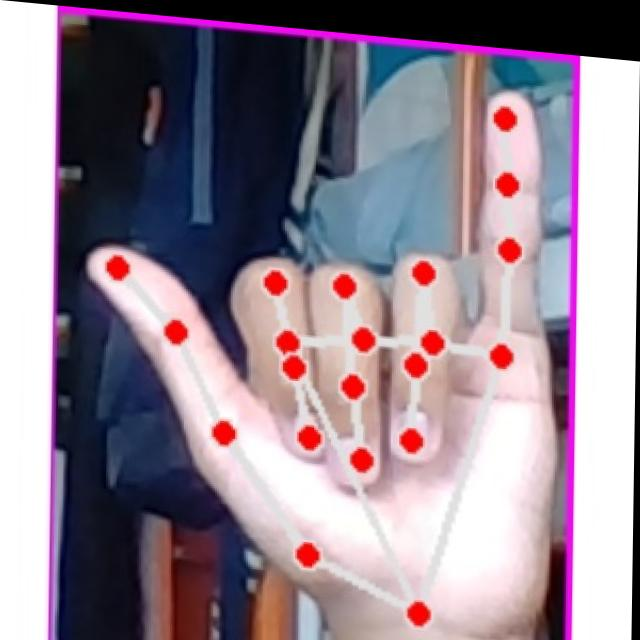Y: (76, 42, 566, 638)
